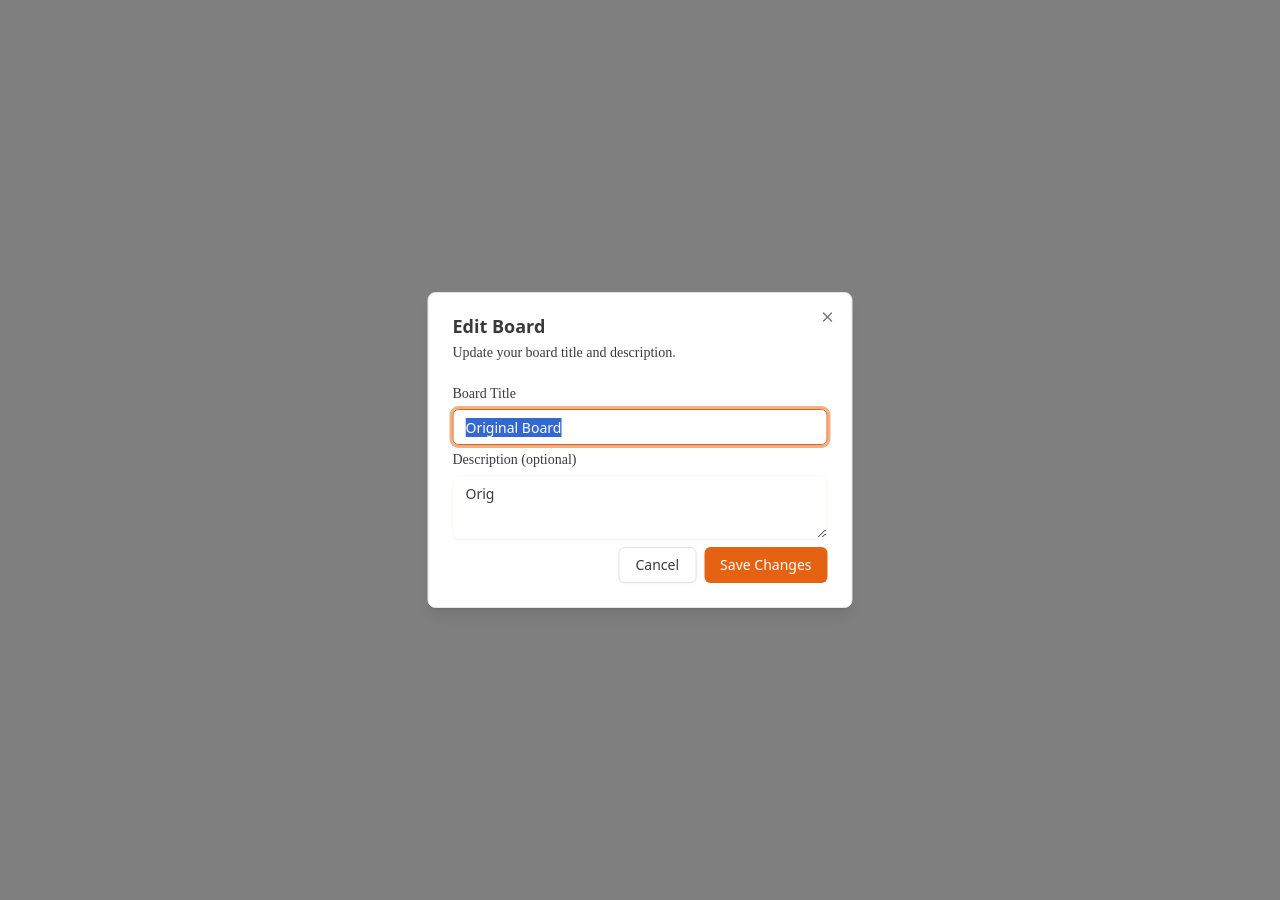
Test: Error-handling and edge-case tests (v0-driftboard-6o2) › Service errors surface in UI without losing user input and clear on retry/close › EditBoardDialog and EditCardDialog surface errors, keep edits during retry, and reset dirty fields + error on cancel+reopen
Later steps or results of the test are not shown.
Replace the text in the field labelled "Board Title" with "Edited Board Title" at (640, 427), box [452,409,828,445]
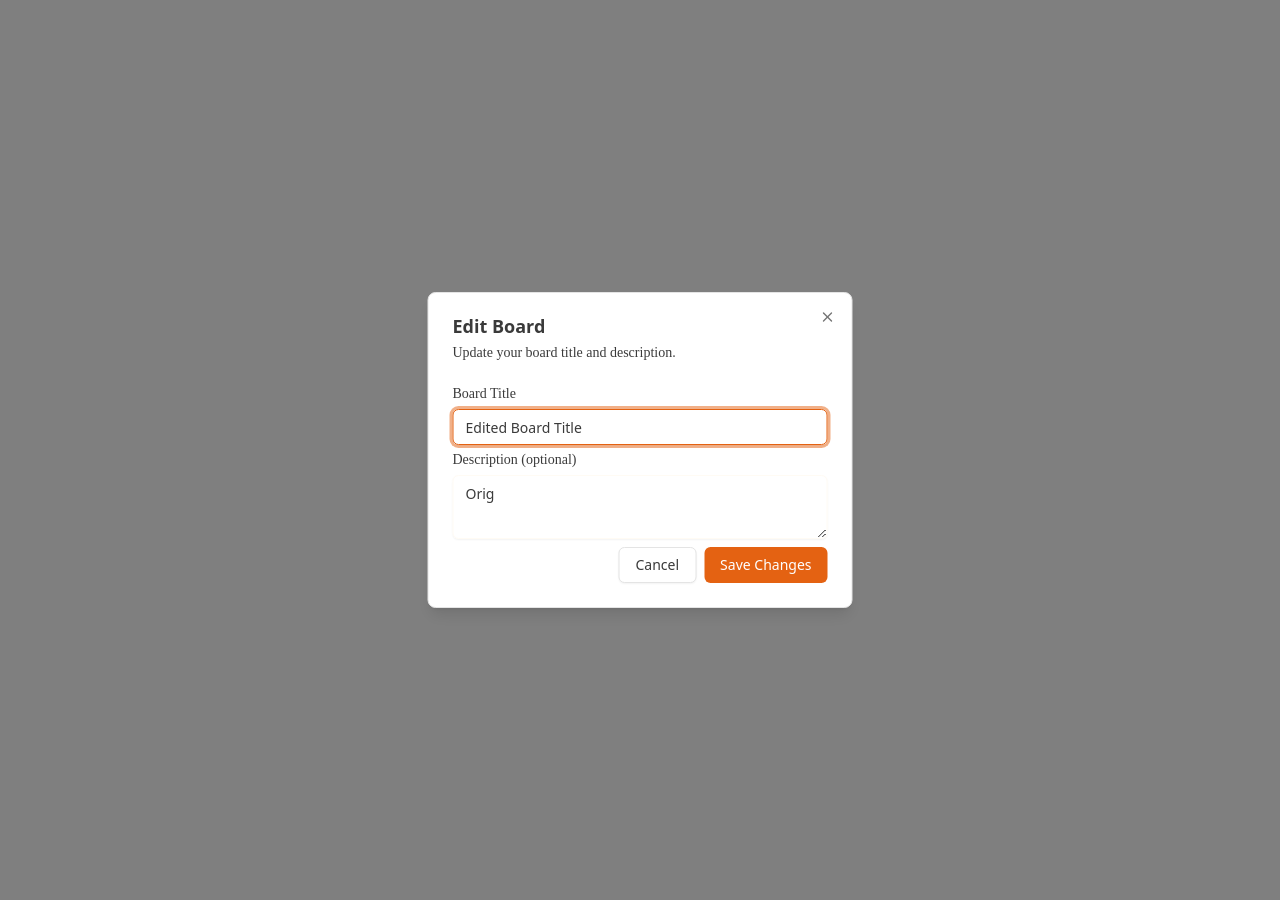
Click the button "Save Changes" at (766, 565), box [704,547,828,583]
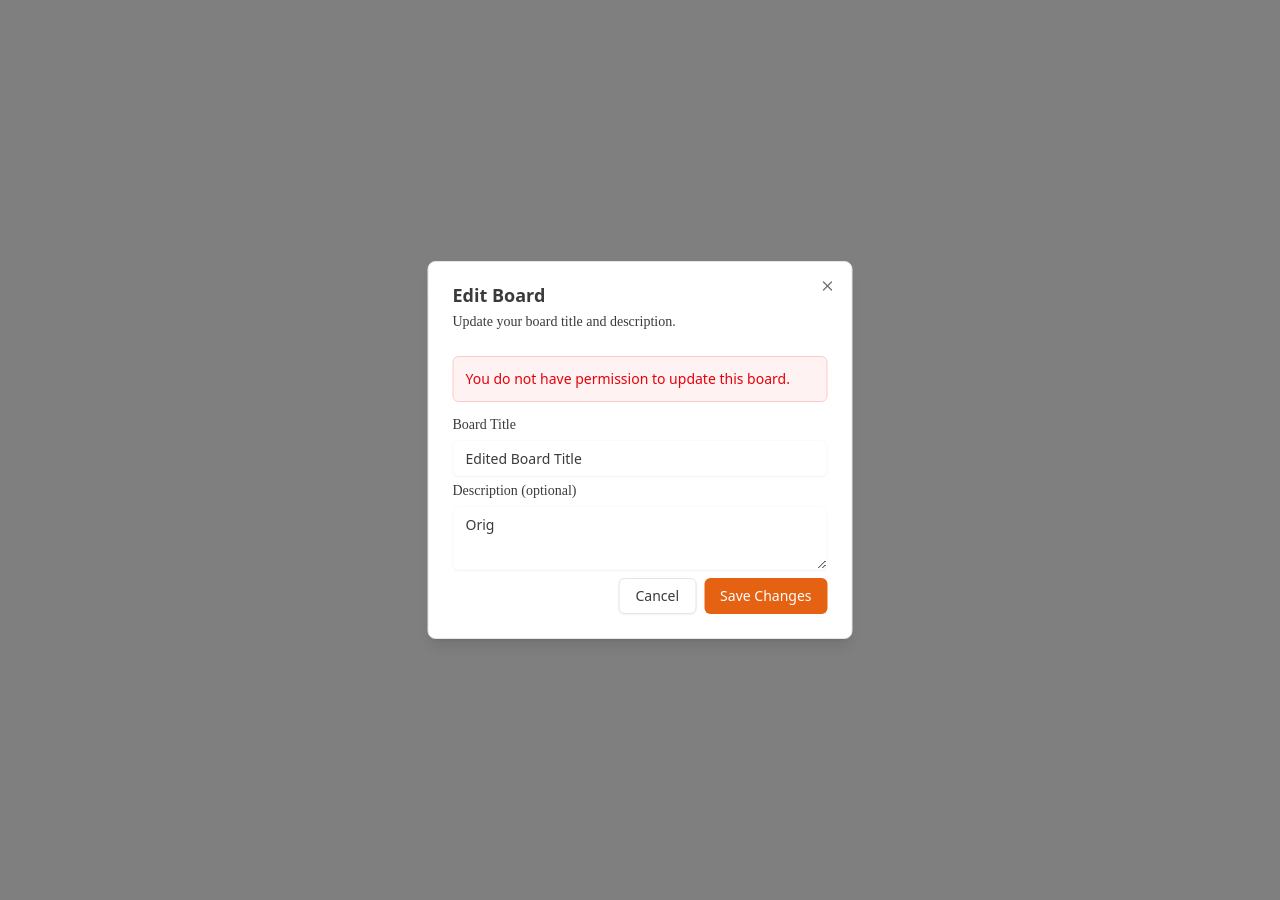
expect the message shows "do not have permission": met, box [466,369,790,388]
